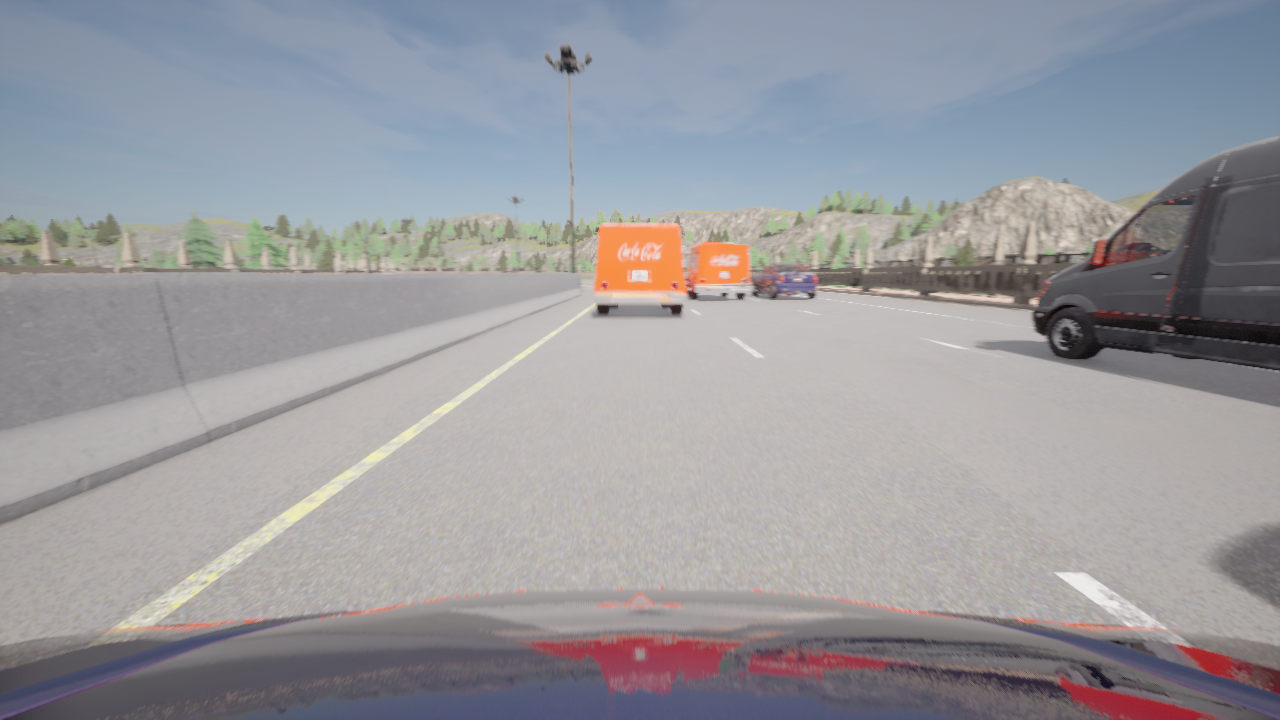cyclist: (0, 588, 1279, 719), (1032, 136, 1279, 371), (594, 224, 686, 314), (682, 243, 751, 299), (750, 262, 817, 299)
